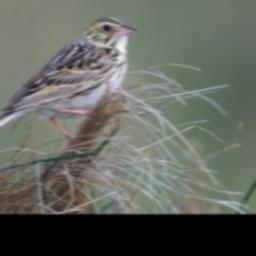Sparrow: (0, 15, 138, 150)
